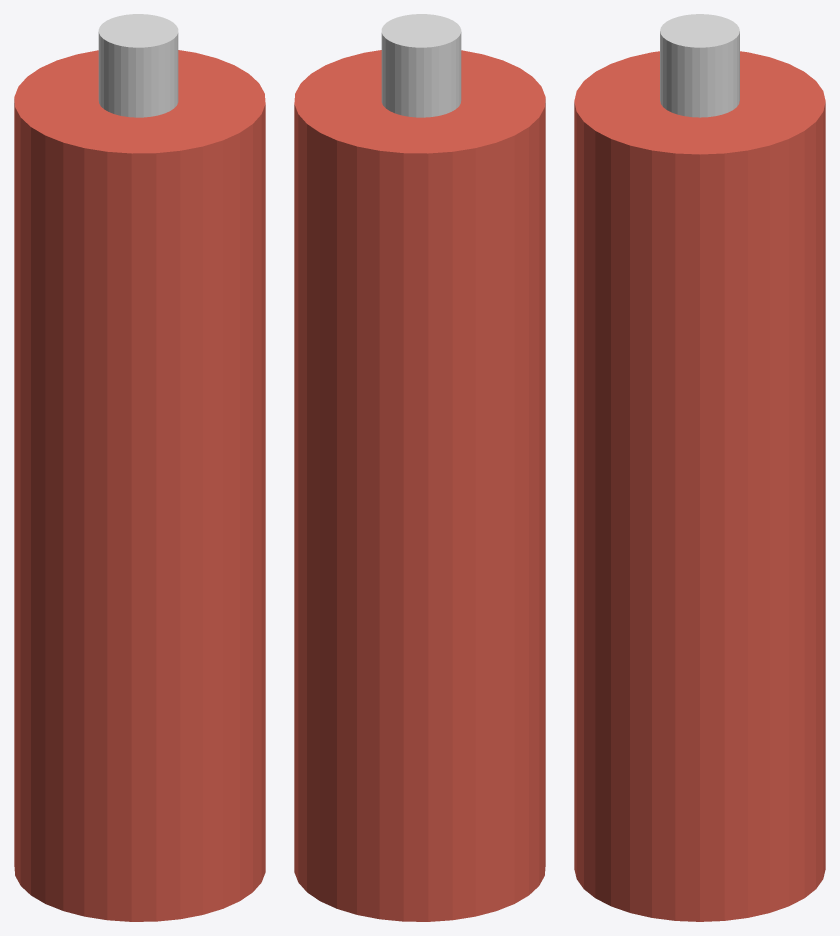
The picture shows the model from 3 angles, left to right: view 1: azimuth 30°, elevation 25°; view 2: azimuth 150°, elevation 25°; view 3: azimuth 270°, elevation 25°; orthographic projection.
Visible parts, largest first — view 1: Detail1, con2out; view 2: Detail1, con2out; view 3: Detail1, con2out.
Boxes of the visible parts, x1=… form: Detail1: x1=14, y1=50, x2=265, y2=921; con2out: x1=98, y1=14, x2=178, y2=117; Detail1: x1=294, y1=50, x2=545, y2=921; con2out: x1=381, y1=14, x2=461, y2=117; Detail1: x1=574, y1=51, x2=825, y2=921; con2out: x1=660, y1=14, x2=739, y2=117.
Size of the model in its own units: 1.26 by 4.63 by 1.26.
